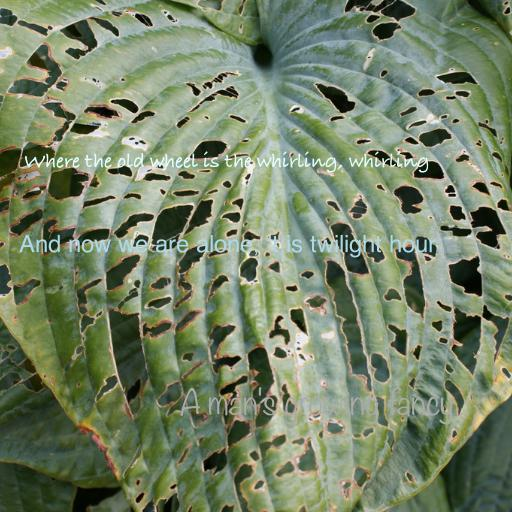Bradley Hand: (24, 151, 430, 173)
Impact: (18, 234, 436, 258)
Noteworthy: (180, 387, 454, 425)
